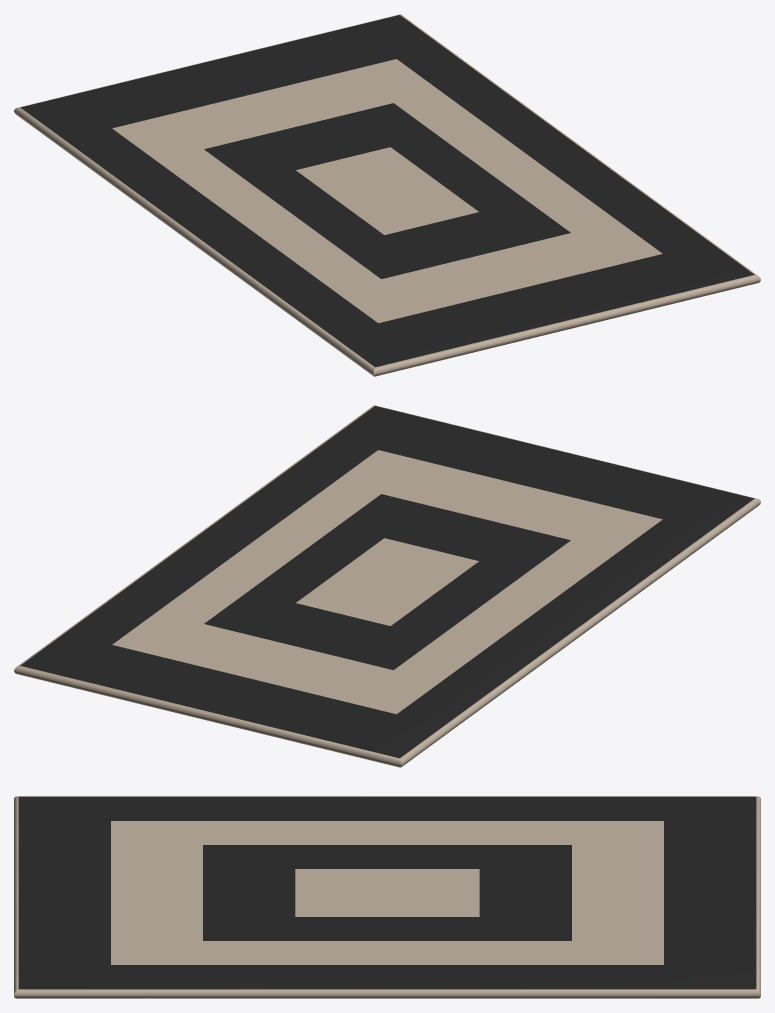
The model's file is Tapis_2.fbx.
3 renders of one model, top to bottom at view 1: azimuth 30°, elevation 25°; view 2: azimuth 150°, elevation 25°; view 3: azimuth 270°, elevation 25°, orthographic. The views are drawn at different scales.
Parts seen in each view (by area): view 1: pCube2776; view 2: pCube2776; view 3: pCube2776.
Part boxes in pixels (x1,y1,x2,y2): pCube2776: (14, 14, 760, 376); pCube2776: (14, 405, 760, 767); pCube2776: (14, 796, 760, 998).
Size of the model in its own units: 83.89 by 1.8 by 135.
